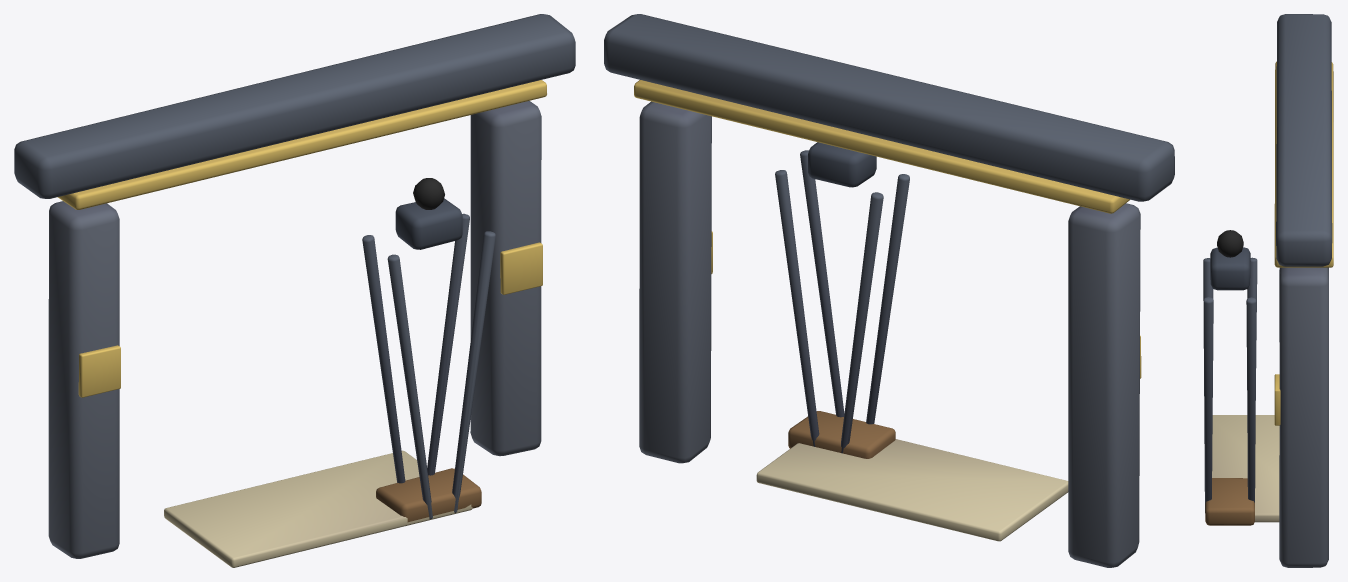
3 renders of one model, left to right at view 1: azimuth 30°, elevation 25°; view 2: azimuth 150°, elevation 25°; view 3: azimuth 270°, elevation 25°, orthographic. The views are drawn at different scales.
Visible parts, largest first — view 1: gate_91358dcf; view 2: gate_91358dcf; view 3: gate_91358dcf.
Boxes of the visible parts, x1=… form: gate_91358dcf: x1=14, y1=14, x2=575, y2=567; gate_91358dcf: x1=604, y1=14, x2=1174, y2=567; gate_91358dcf: x1=1203, y1=14, x2=1333, y2=567.
Size of the model in its own units: 5.35 by 3.93 by 1.32.
